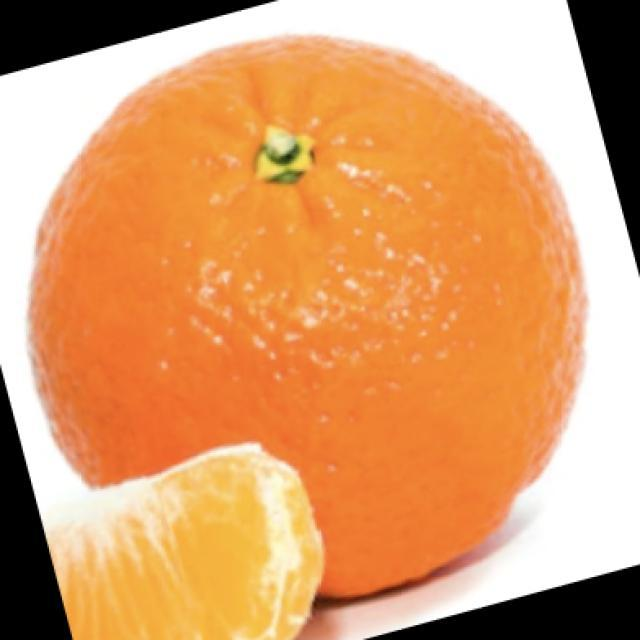matang: (30, 38, 585, 596), (46, 444, 322, 639)
